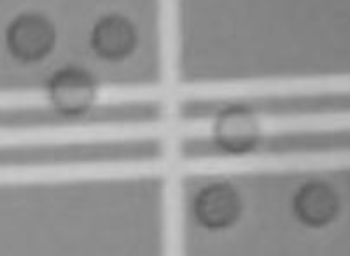cell: (206, 97, 264, 160), (43, 60, 101, 121), (189, 178, 246, 235), (2, 9, 60, 65), (86, 12, 142, 64), (289, 176, 341, 230)
